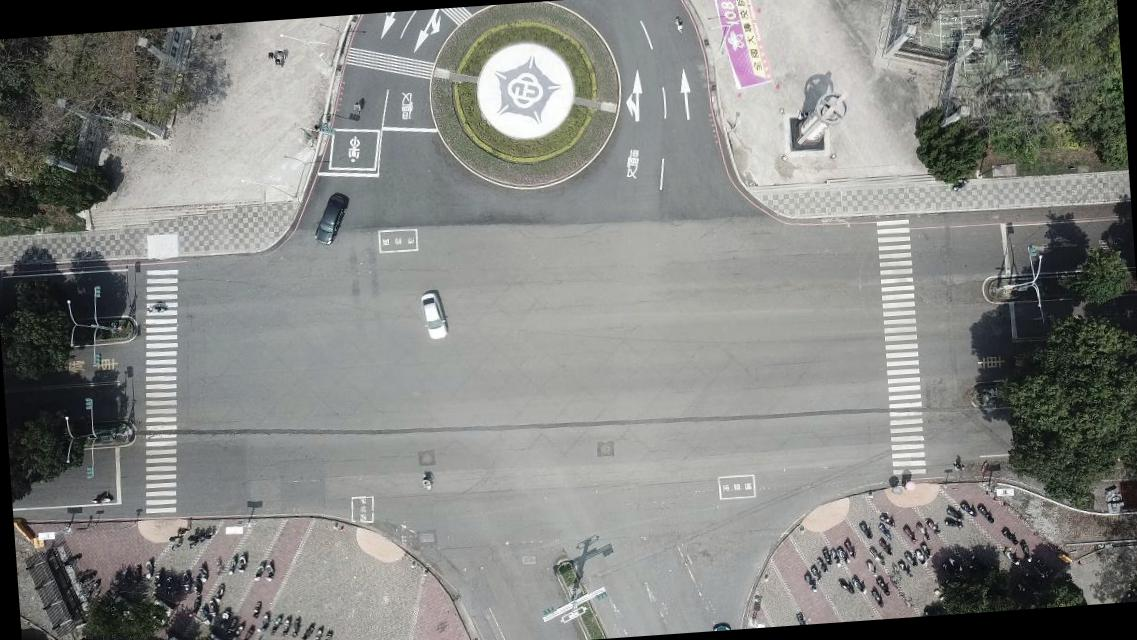vehicle: (311, 192, 350, 244), (420, 288, 448, 339)
